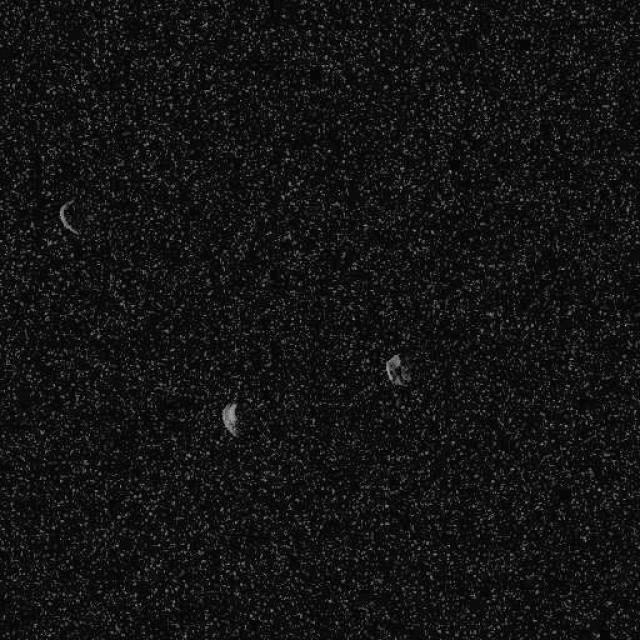D2: (384, 352, 411, 387), (58, 196, 80, 236), (220, 400, 240, 436)
